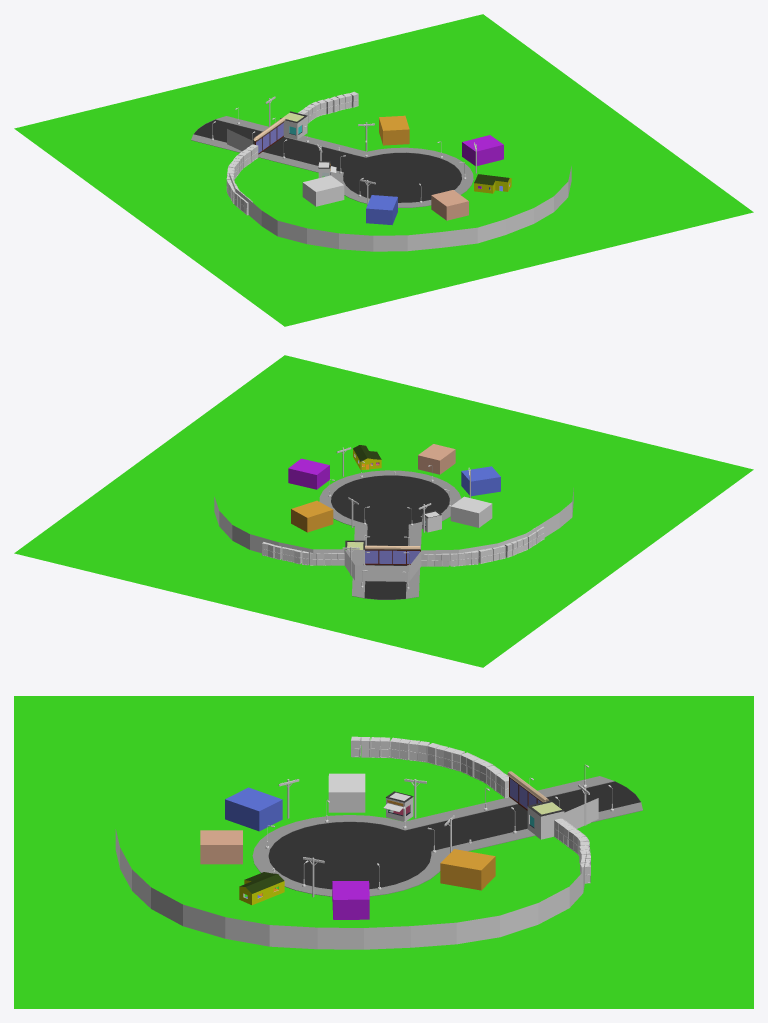
File: map.gltf
3 views of the same model, one above another, from view 1: azimuth 30°, elevation 25°; view 2: azimuth 150°, elevation 25°; view 3: azimuth 270°, elevation 25° (orthographic). The views are drawn at different scales.
Visible parts, largest first — view 1: Ground, CulDeSac, Boundary-col, NeighborHouseE-col, NeighborHouseC-col, NeighborHouseA-col, NeighborHouseB-col, NeighborHouseD-col, PlayerHouse-col, Building; view 2: Ground, CulDeSac, Boundary-col, NeighborHouseD-col, NeighborHouseE-col, NeighborHouseC-col, NeighborHouseB-col, NeighborHouseA-col, Gate, PlayerHouse-col; view 3: Ground, CulDeSac, Boundary-col, NeighborHouseB-col, NeighborHouseD-col, NeighborHouseE-col, NeighborHouseA-col, NeighborHouseC-col, PlayerHouse-col, Building, Commisary.
Part boxes in pixels (x1,y1,x2,y2): Ground: (14,14,753,326); CulDeSac: (191,116,473,207); Boundary-col: (227,129,571,251); NeighborHouseE-col: (302,175,344,206); NeighborHouseC-col: (462,135,503,165); NeighborHouseA-col: (431,190,468,220); NeighborHouseB-col: (366,195,397,225); NeighborHouseD-col: (379,115,409,145); PlayerHouse-col: (474,174,511,193); Building: (280,111,307,139); Ground: (14,355,753,667); CulDeSac: (319,470,461,599); Boundary-col: (214,488,573,581); NeighborHouseD-col: (291,500,333,532); NeighborHouseE-col: (450,496,492,527); NeighborHouseC-col: (288,458,329,489); NeighborHouseB-col: (461,466,500,496); NeighborHouseA-col: (418,444,455,474); Gate: (365,549,420,565); PlayerHouse-col: (353,445,381,470); Ground: (14,696,753,1008); CulDeSac: (252,776,642,896); Boundary-col: (115,798,598,949); NeighborHouseB-col: (225,787,282,831); NeighborHouseD-col: (440,849,495,890); NeighborHouseE-col: (328,773,365,812); NeighborHouseA-col: (200,830,242,864); NeighborHouseC-col: (332,881,369,919); PlayerHouse-col: (239,872,284,905); Building: (527,800,564,839); Commisary: (383,791,413,821).
Bounding box in the file's own units: 713 × 55.11 × 713.
